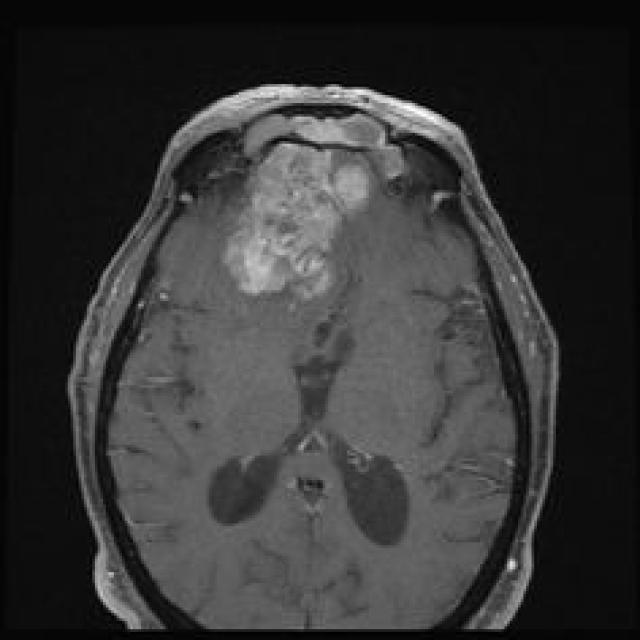Tumor-Cell: (225, 119, 416, 287)
